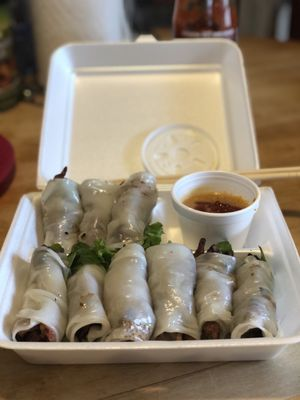curry: (141, 220, 165, 250)
pizza: (170, 170, 261, 252)
sushi: (170, 170, 261, 251), (141, 124, 220, 181)
